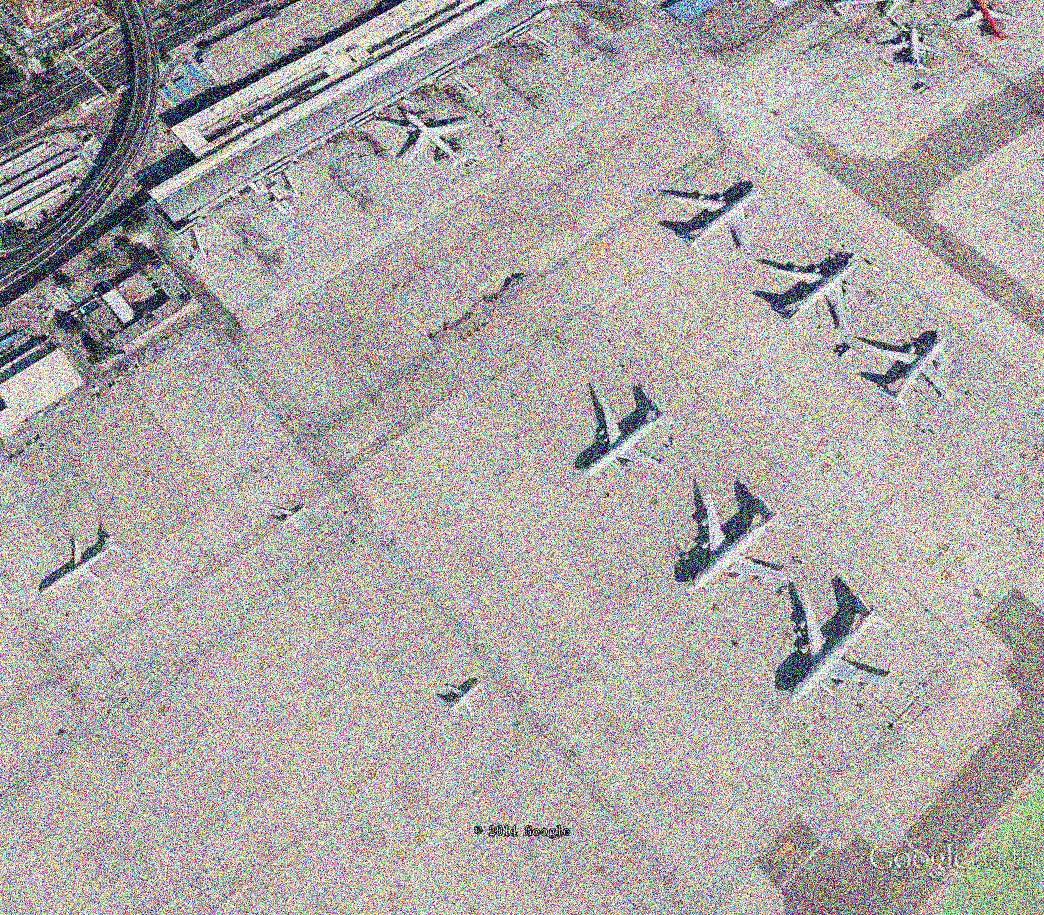aircraft: (783, 588, 912, 711), (673, 489, 804, 598), (754, 252, 867, 345), (577, 388, 684, 483), (858, 327, 961, 415), (655, 178, 766, 258), (34, 529, 126, 598), (402, 108, 477, 175), (874, 22, 948, 79), (952, 1, 1026, 46), (436, 676, 481, 724), (273, 505, 309, 535)
